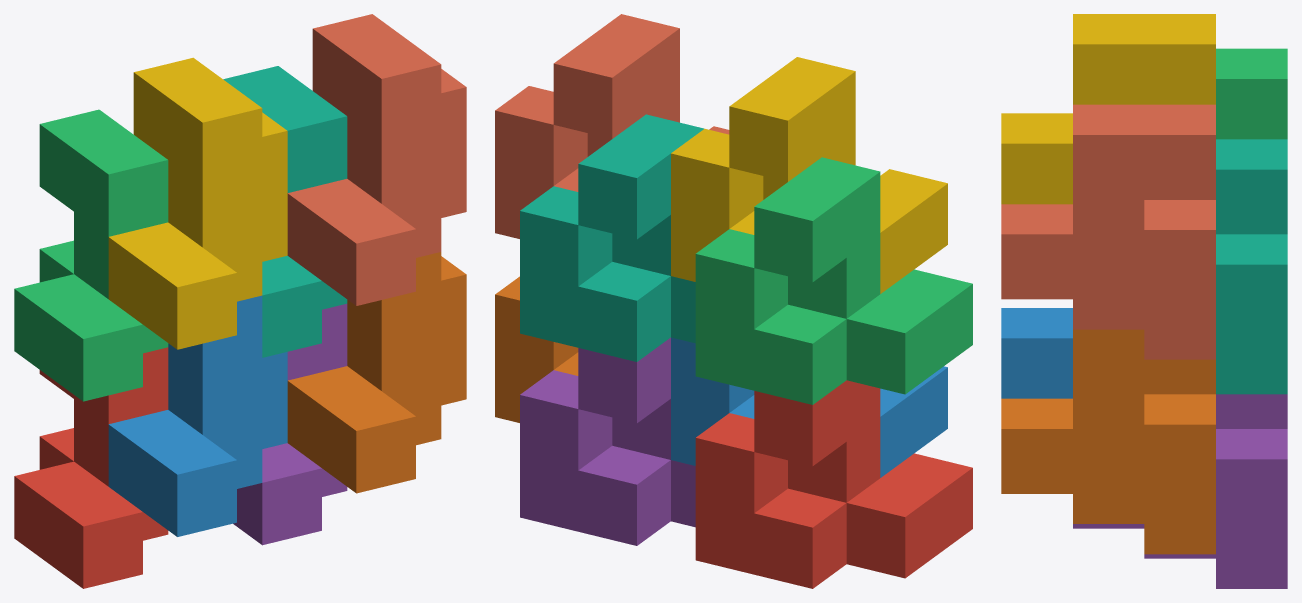
The model's file is tiling.obj.
3 renders of one model, left to right at view 1: azimuth 30°, elevation 25°; view 2: azimuth 150°, elevation 25°; view 3: azimuth 270°, elevation 25°, orthographic. The views are drawn at different scales.
Visible parts, largest first — view 1: copy_1_domain_8, copy_1_domain_4, copy_1_domain_3, copy_1_domain_6, copy_1_domain_2, copy_1_domain_1, copy_1_domain_7, copy_1_domain_5; view 2: copy_1_domain_3, copy_1_domain_1, copy_1_domain_7, copy_1_domain_4, copy_1_domain_5, copy_1_domain_8, copy_1_domain_2, copy_1_domain_6; view 3: copy_1_domain_8, copy_1_domain_6, copy_1_domain_4, copy_1_domain_7, copy_1_domain_5, copy_1_domain_3, copy_1_domain_2.
Boxes of the visible parts, x1,y1,x2,y2 form: copy_1_domain_8: (287,14,466,305); copy_1_domain_4: (108,57,287,349); copy_1_domain_3: (14,109,168,401); copy_1_domain_6: (287,252,466,493); copy_1_domain_2: (108,295,287,536); copy_1_domain_1: (14,347,168,588); copy_1_domain_7: (223,66,347,357); copy_1_domain_5: (233,303,347,545); copy_1_domain_3: (695,157,972,404); copy_1_domain_1: (695,380,972,588); copy_1_domain_7: (520,114,703,361); copy_1_domain_4: (671,57,947,293); copy_1_domain_5: (520,337,695,545); copy_1_domain_8: (495,14,729,238); copy_1_domain_2: (671,337,947,477); copy_1_domain_6: (495,276,578,422); copy_1_domain_8: (1001,104,1215,359); copy_1_domain_6: (1001,329,1215,554); copy_1_domain_4: (1001,14,1215,204); copy_1_domain_7: (1216,139,1287,394); copy_1_domain_5: (1073,394,1287,588); copy_1_domain_3: (1216,48,1287,139); copy_1_domain_2: (1001,308,1072,398).
Bounding box in the file's own units: 7 × 7 × 4.
